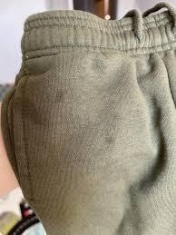oil: (103, 131, 116, 147)
